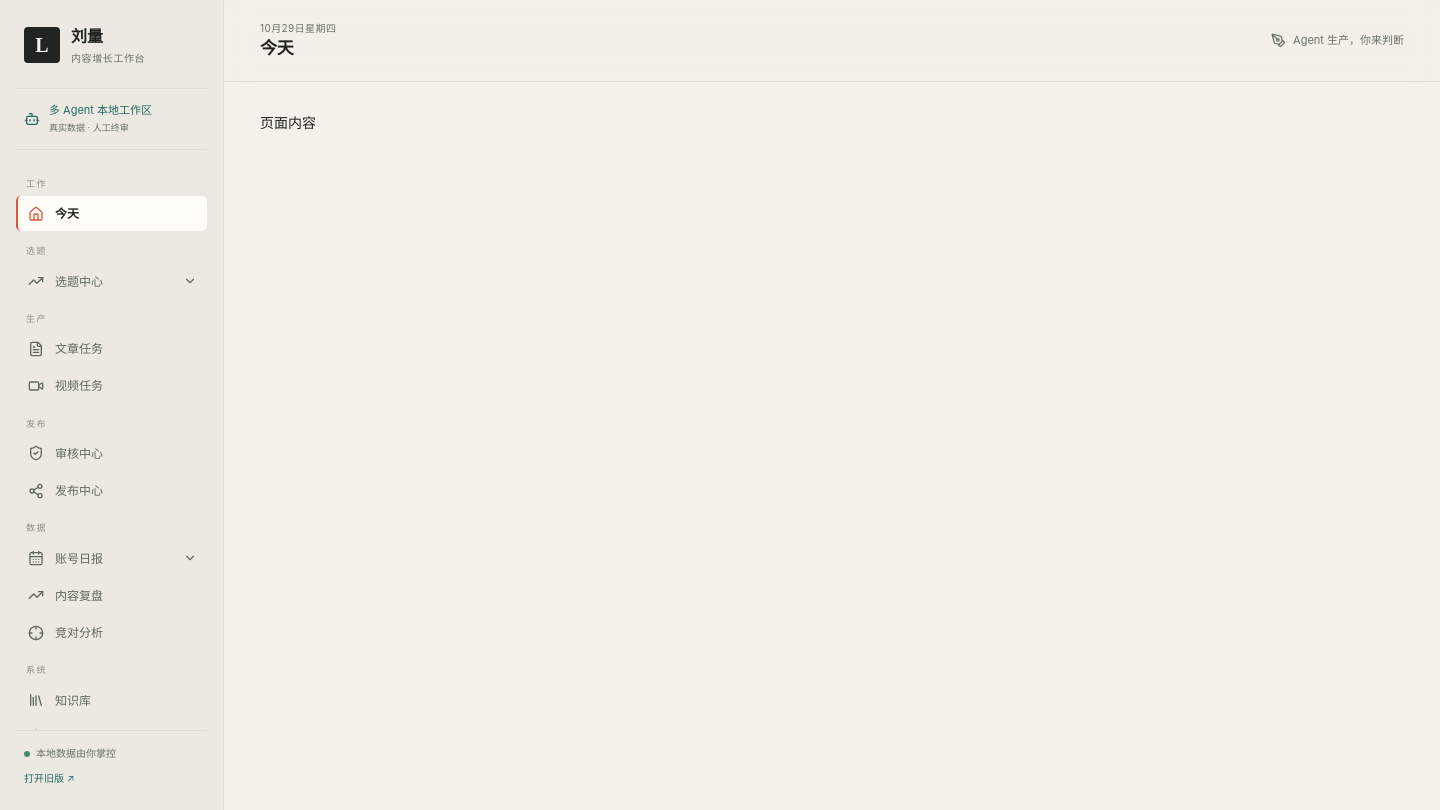
Test case: AppShell topic navigation › reveals platform links only after expanding the topic center
Expected: the link "行业热点" is not shown
Click the button "选题中心": (112,281) 16,264 -> 207,299
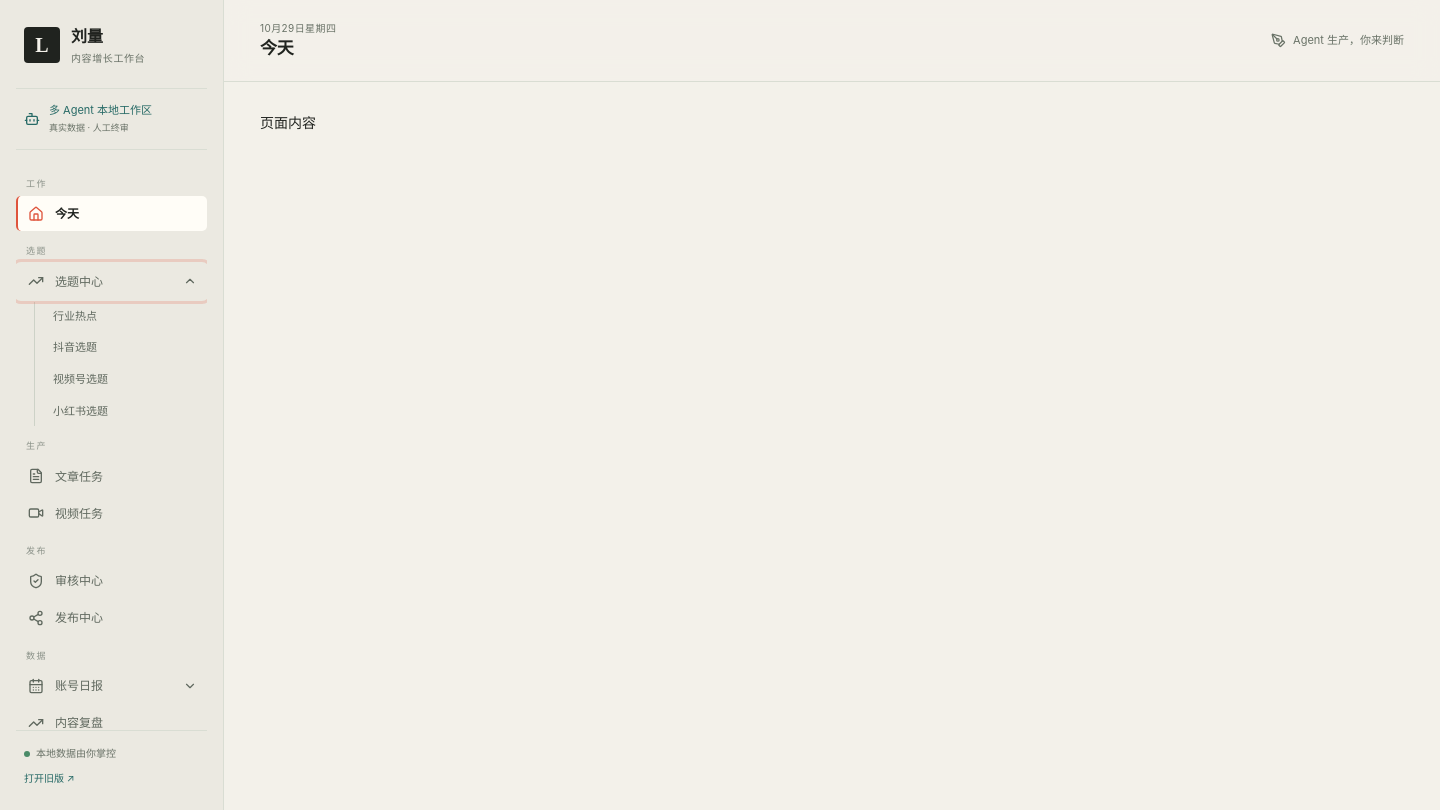
Result: the button "选题中心" is expanded
Click the button "选题中心": (112,281) 16,264 -> 207,299
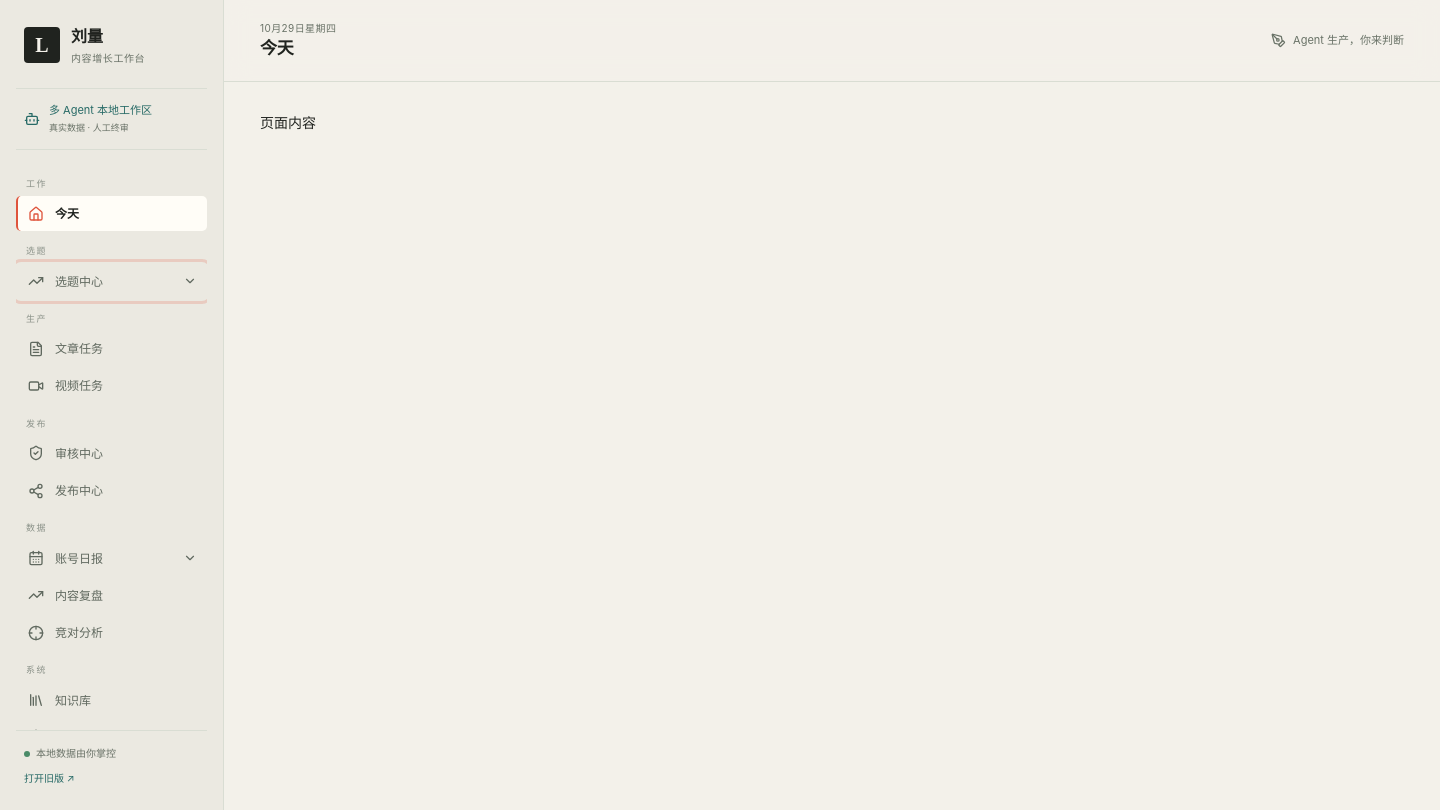
Result: the link "抖音选题" is gone
